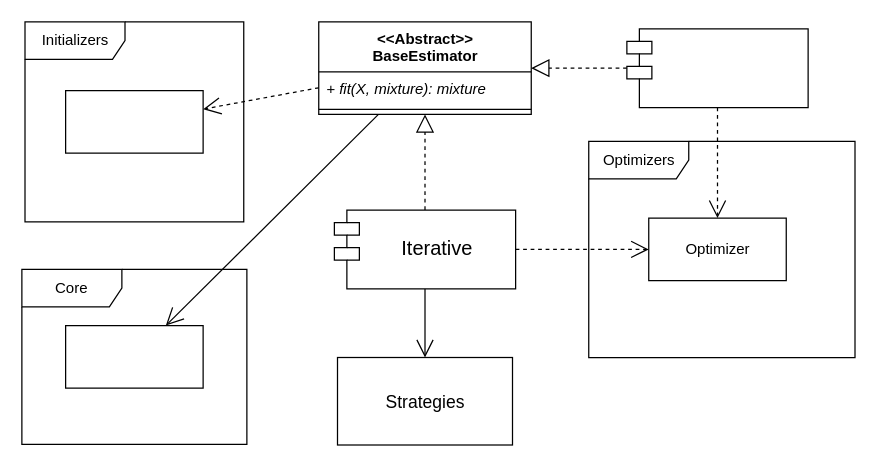
This 878x468 diagram has some shape labels left out. Each missing label, with the centre of its shape:
"Direct" belongs at point (717, 68).
"Initializer" belongs at point (133, 121).
"MixtureModel" belongs at point (133, 356).
